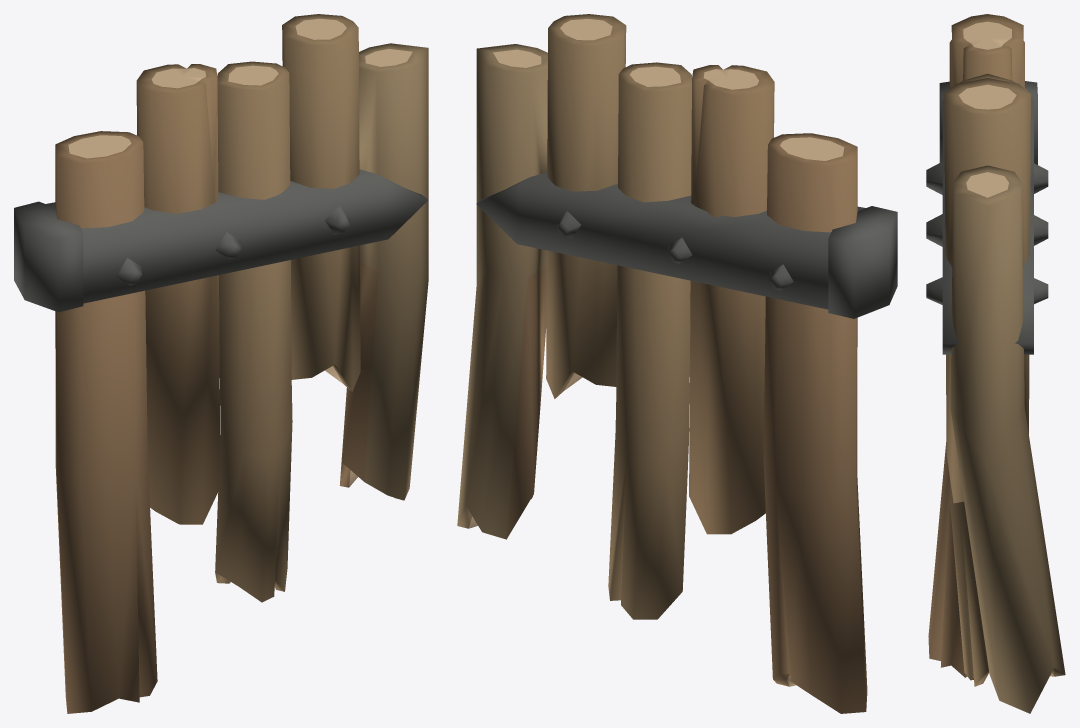
File: rpgpp_av_door_04a.gltf
3 views of the same model, side by side, from view 1: azimuth 30°, elevation 25°; view 2: azimuth 150°, elevation 25°; view 3: azimuth 270°, elevation 25° (orthographic). The views are drawn at different scales.
Parts seen in each view (by area): view 1: rpgpp_av_door_04a; view 2: rpgpp_av_door_04a; view 3: rpgpp_av_door_04a.
Boxes of the visible parts, x1,y1,x2,y2 form: rpgpp_av_door_04a: [14, 14, 428, 713]; rpgpp_av_door_04a: [457, 14, 897, 713]; rpgpp_av_door_04a: [926, 14, 1065, 713].
Bounding box in the file's own units: 0.0139 × 0.0202 × 0.00372.
1 material, 1 textured.
